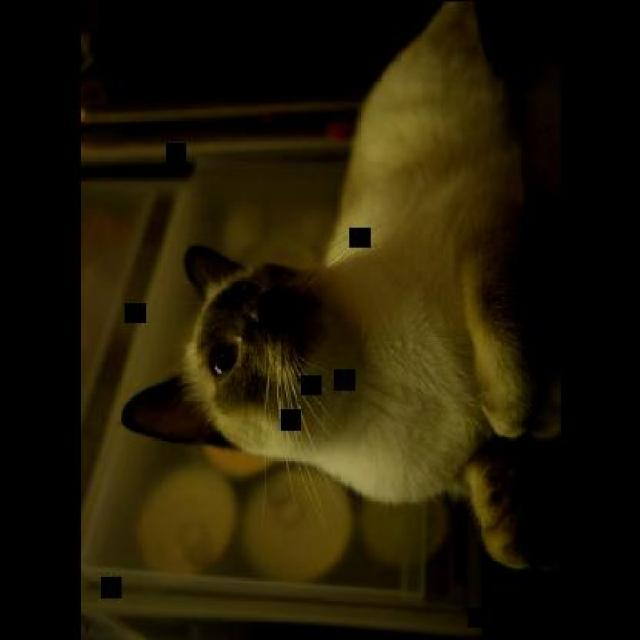unauthorized: (174, 0, 560, 569)
